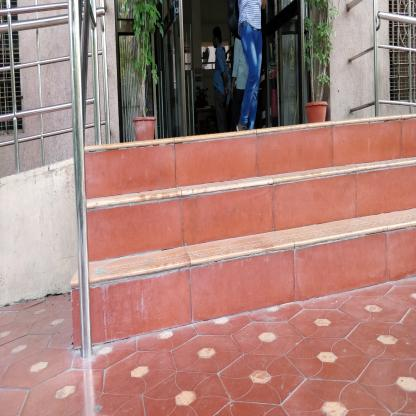stairs: (209, 131, 364, 330)
